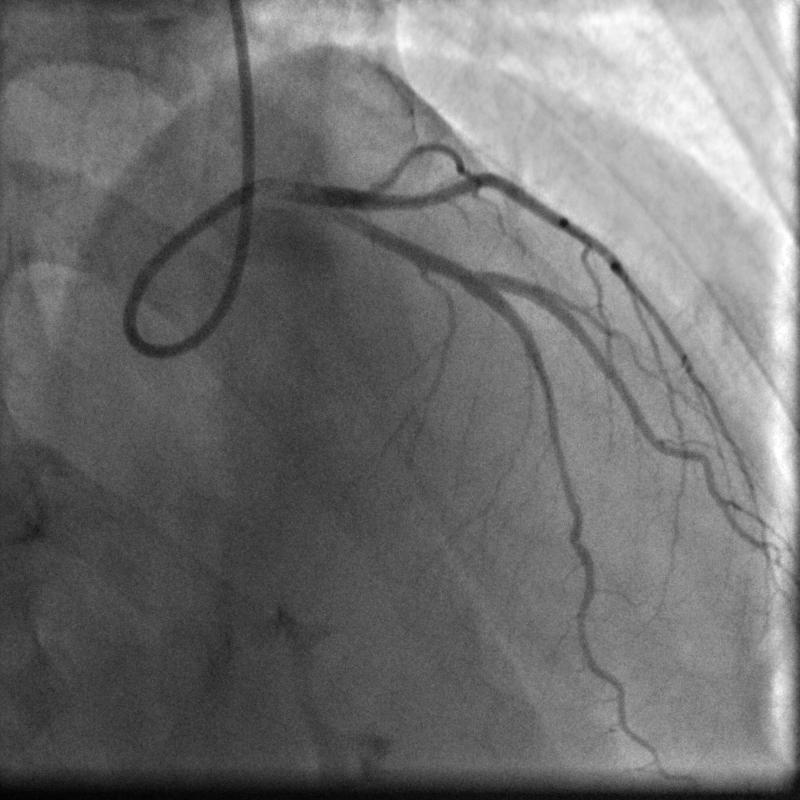Stenosis: (449, 258, 479, 297)
